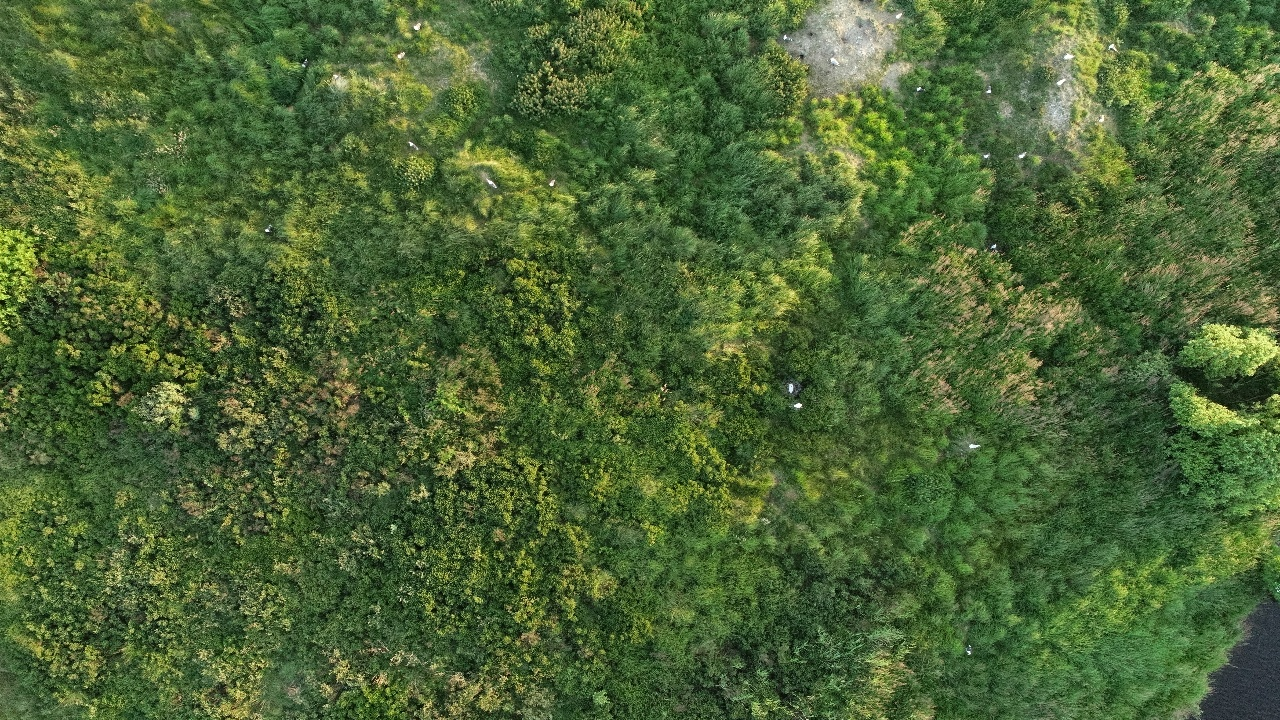Bird: (260, 219, 279, 239), (404, 134, 423, 154), (484, 172, 503, 192), (543, 173, 562, 193), (392, 44, 411, 64), (296, 52, 315, 72), (325, 66, 344, 86), (409, 16, 428, 36), (782, 375, 801, 395), (789, 393, 808, 413), (960, 640, 979, 660), (1062, 47, 1078, 66), (967, 437, 983, 454), (988, 239, 1004, 256), (1014, 146, 1030, 163), (979, 145, 995, 162), (980, 81, 996, 98), (913, 79, 929, 96), (827, 52, 843, 69), (1053, 73, 1069, 90), (781, 30, 797, 47), (893, 8, 909, 25), (1096, 110, 1112, 127), (1107, 39, 1123, 56)
